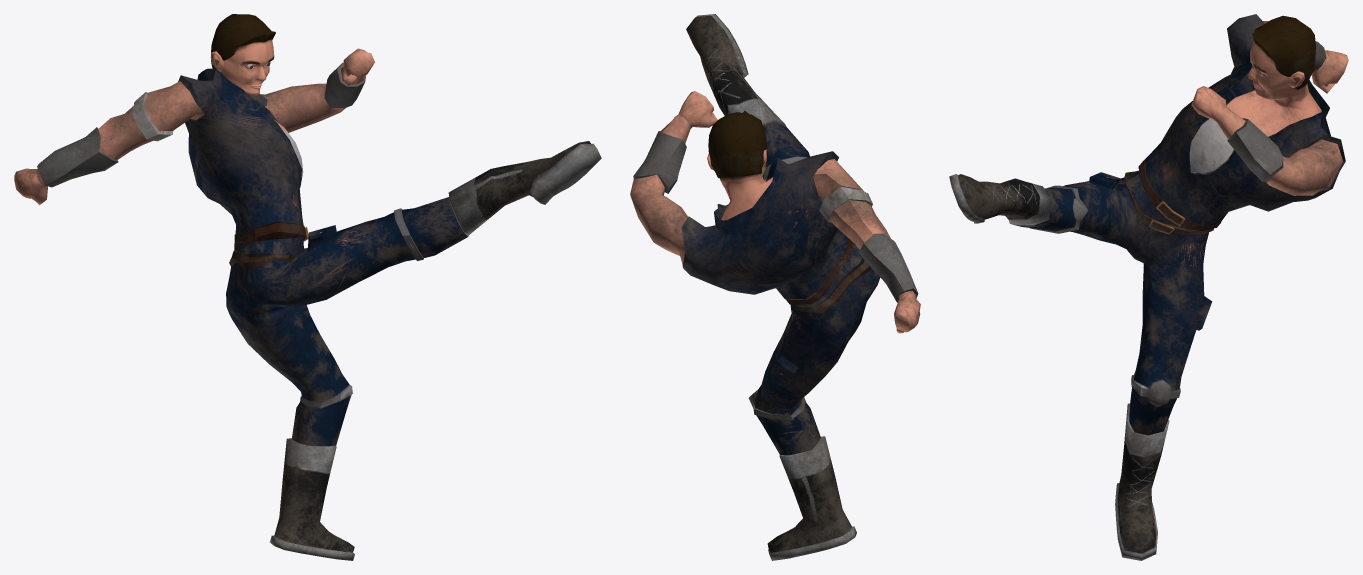
File: Anim_ataque_f1_jugador.0020.obj
The picture shows the model from 3 angles, left to right: view 1: azimuth 30°, elevation 25°; view 2: azimuth 150°, elevation 25°; view 3: azimuth 270°, elevation 25°; orthographic projection. The views are drawn at different scales.
Visible parts, largest first — view 1: polySurface1; view 2: polySurface1; view 3: polySurface1.
Part boxes in pixels (x1,y1,x2,y2): polySurface1: (14, 14, 601, 560); polySurface1: (630, 14, 920, 560); polySurface1: (949, 14, 1348, 560).
Bounding box in the file's own units: 7.65 × 8.98 × 6.22.
